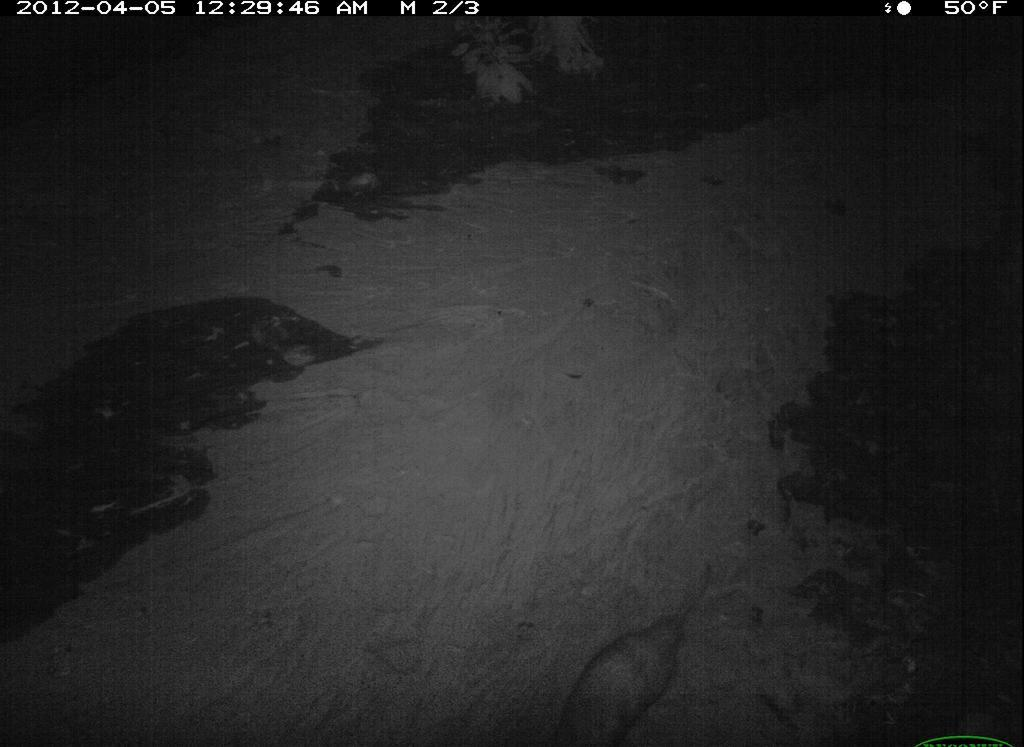opossum: (539, 557, 744, 745)
